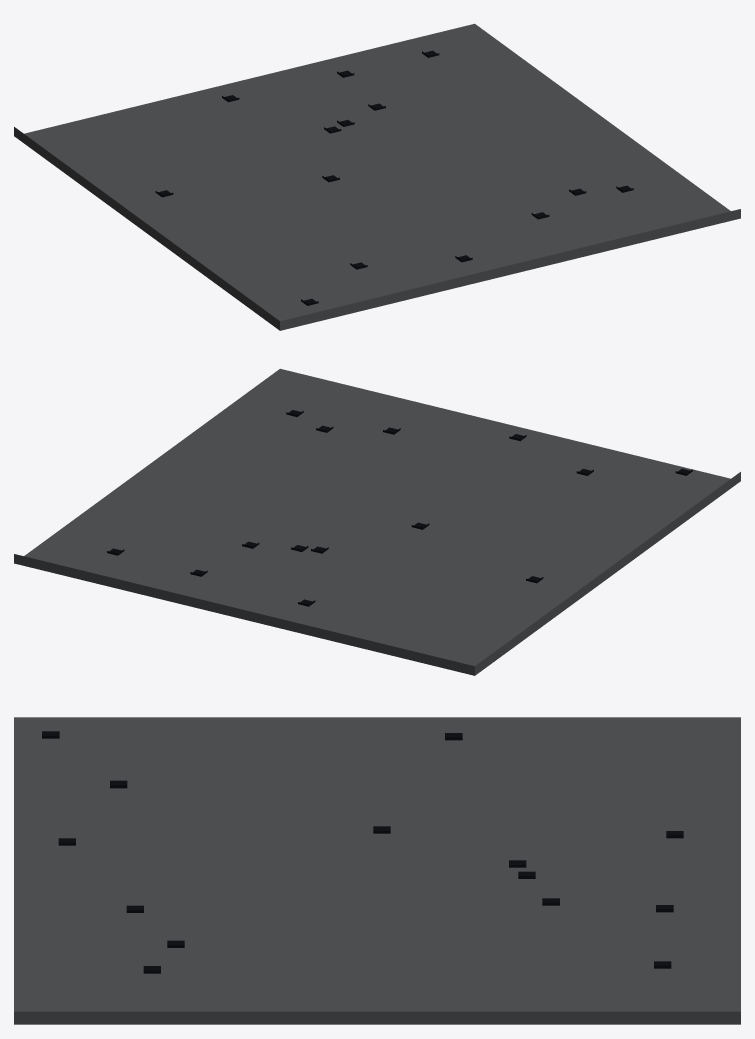
The model's file is tt_gym_floor_tile.glb.
3 renders of one model, top to bottom at view 1: azimuth 30°, elevation 25°; view 2: azimuth 150°, elevation 25°; view 3: azimuth 270°, elevation 25°, orthographic. The views are drawn at different scales.
Visible parts, largest first — view 1: Rubber_Tile, Fleck_Inlay; view 2: Rubber_Tile, Fleck_Inlay; view 3: Rubber_Tile, Fleck_Inlay.
Part boxes in pixels (box(x1,y1,x2,y2)): Rubber_Tile: box(14, 23, 740, 330); Fleck_Inlay: box(155, 50, 633, 305); Rubber_Tile: box(14, 368, 740, 675); Fleck_Inlay: box(107, 410, 692, 606); Rubber_Tile: box(14, 717, 740, 1024); Fleck_Inlay: box(42, 731, 683, 973).
Size of what is drawn, in the model's own units: 1 by 0.0215 by 1.
Materials: 2 (1 with a texture image).
